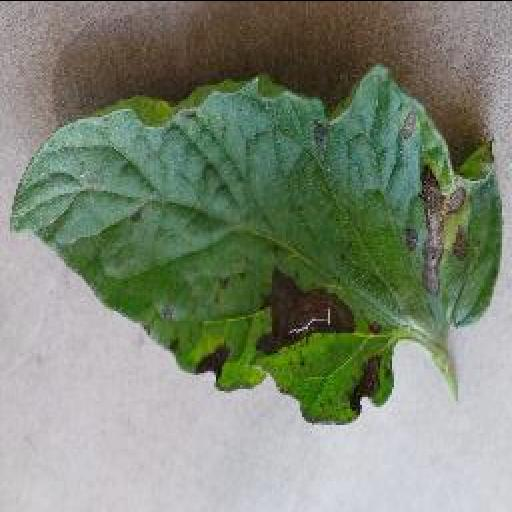disease_tomato: (11, 60, 505, 425)
